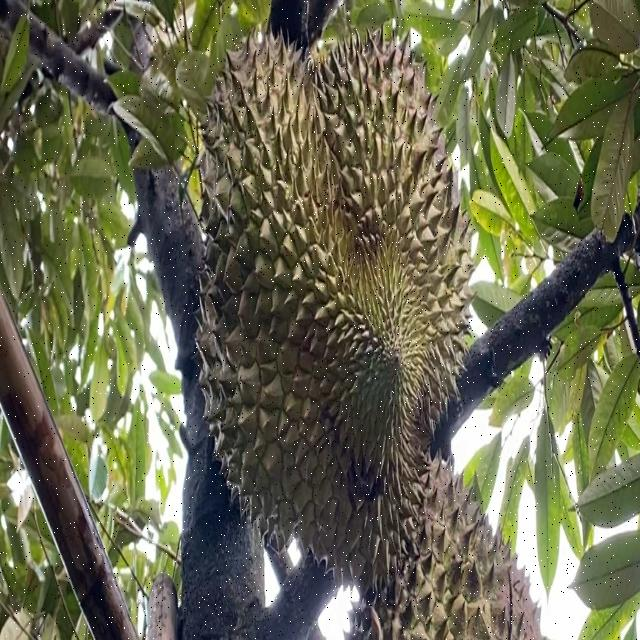RIPE: (194, 22, 474, 592)
